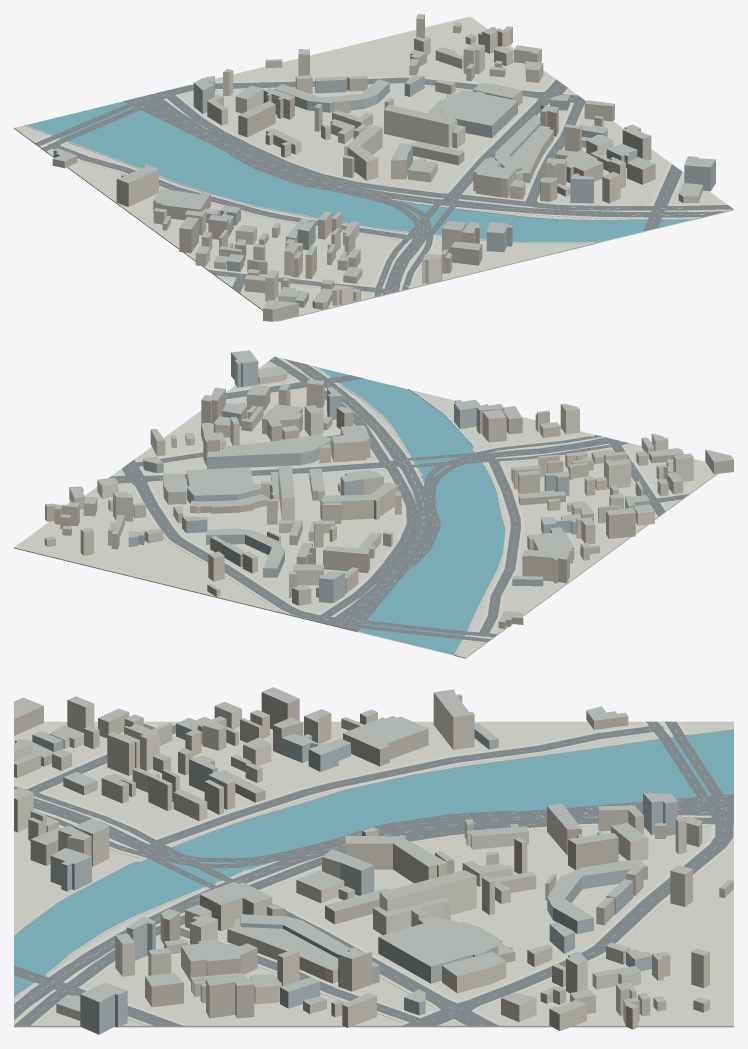
3 views of the same model, one above another, from view 1: azimuth 30°, elevation 25°; view 2: azimuth 150°, elevation 25°; view 3: azimuth 270°, elevation 25° (orthographic). The views are drawn at different scales.
Parts seen in each view (by area): view 1: city; view 2: city; view 3: city.
Part boxes in pixels (box(x1,y1,x2,y2)): city: box(14, 14, 733, 321); city: box(14, 350, 733, 658); city: box(14, 687, 733, 1034).
Size of the model in its own units: 527 by 26 by 500.
